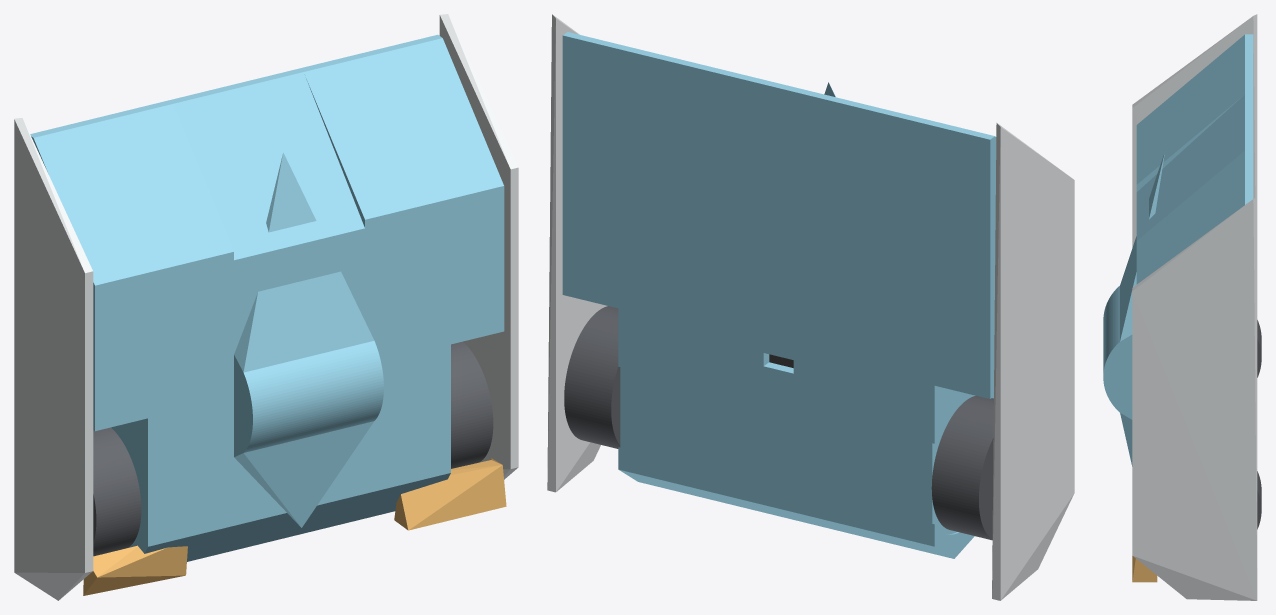
Rendered from wendsleydale.glb.
The picture shows the model from 3 angles, left to right: view 1: azimuth 30°, elevation 25°; view 2: azimuth 150°, elevation 25°; view 3: azimuth 270°, elevation 25°; orthographic projection. The views are drawn at different scales.
Visible parts, largest first — view 1: chassis, side_plate_r, lifter, side_plate_l, wheel_r0, corner_rl, wheel_l0, corner_rr; view 2: chassis, side_plate_r, side_plate_l, wheel_r0, wheel_l0; view 3: side_plate_l, chassis, lifter, side_plate_r, corner_rl, wheel_l0, wheel_r0.
Boxes of the visible parts, x1=… form: chassis: x1=30, y1=34, x2=504, y2=561; side_plate_r: x1=14, y1=118, x2=93, y2=600; lifter: x1=234, y1=152, x2=383, y2=527; side_plate_l: x1=439, y1=14, x2=518, y2=479; wheel_r0: x1=93, y1=427, x2=141, y2=556; corner_rl: x1=394, y1=458, x2=506, y2=530; wheel_l0: x1=451, y1=341, x2=493, y2=468; corner_rr: x1=83, y1=545, x2=187, y2=595; chassis: x1=562, y1=32, x2=996, y2=558; side_plate_r: x1=992, y1=123, x2=1074, y2=600; side_plate_l: x1=547, y1=14, x2=607, y2=492; wheel_r0: x1=931, y1=396, x2=993, y2=540; wheel_l0: x1=564, y1=306, x2=620, y2=448; side_plate_l: x1=1132, y1=197, x2=1257, y2=600; chassis: x1=1136, y1=34, x2=1253, y2=284; lifter: x1=1103, y1=152, x2=1164, y2=466; side_plate_r: x1=1132, y1=14, x2=1257, y2=247; corner_rl: x1=1132, y1=556, x2=1157, y2=582; wheel_l0: x1=1257, y1=471, x2=1261, y2=529; wheel_r0: x1=1257, y1=320, x2=1261, y2=377.
Bounding box in the file's own units: 106 × 106 × 38.
